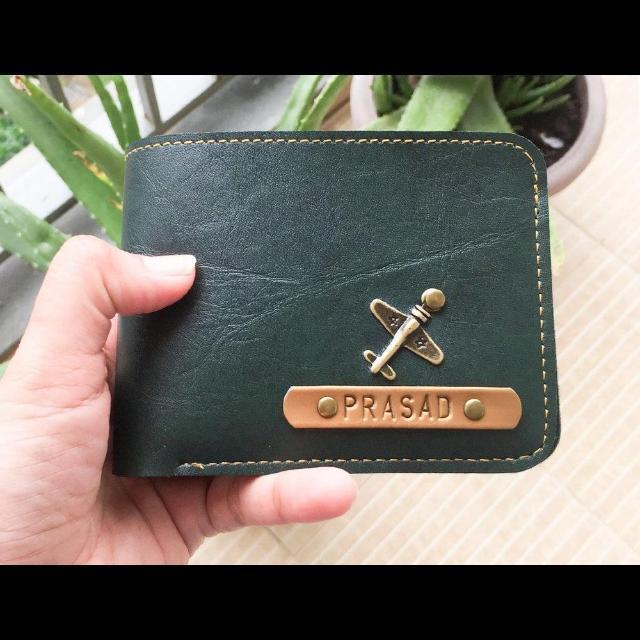wallet: (103, 130, 562, 478)
